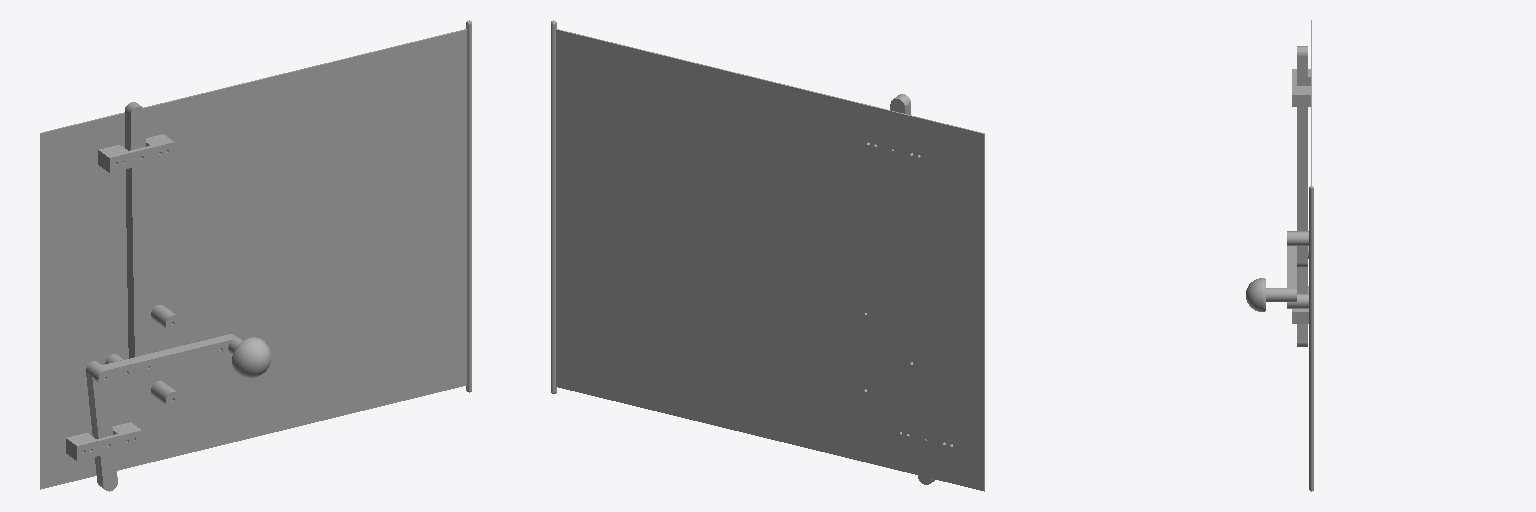
The robot description file, URDF, robot "doooor_c":
<?xml version="1.0" ?>
<!-- =================================================================================== -->
<!-- |    This document was autogenerated by xacro from urdf\doooor_c.xacro.temp       | -->
<!-- |    EDITING THIS FILE BY HAND IS NOT RECOMMENDED                                 | -->
<!-- =================================================================================== -->
<robot xmlns:xacro="http://www.ros.org/wiki/xacro" name="doooor_c">
  <material name="silver">
    <color rgba="0.700 0.700 0.700 1.000"/>
  </material>
  <transmission name="Revolute 5_tran">
    <type>transmission_interface/SimpleTransmission</type>
    <joint name="Revolute 5">
      <hardwareInterface>hardware_interface/EffortJointInterface</hardwareInterface>
    </joint>
    <actuator name="Revolute 5_actr">
      <hardwareInterface>hardware_interface/EffortJointInterface</hardwareInterface>
      <mechanicalReduction>1</mechanicalReduction>
    </actuator>
  </transmission>
  <transmission name="Revolute 6_tran">
    <type>transmission_interface/SimpleTransmission</type>
    <joint name="Revolute 6">
      <hardwareInterface>hardware_interface/EffortJointInterface</hardwareInterface>
    </joint>
    <actuator name="Revolute 6_actr">
      <hardwareInterface>hardware_interface/EffortJointInterface</hardwareInterface>
      <mechanicalReduction>1</mechanicalReduction>
    </actuator>
  </transmission>
  <transmission name="Revolute 7_tran">
    <type>transmission_interface/SimpleTransmission</type>
    <joint name="Revolute 7">
      <hardwareInterface>hardware_interface/EffortJointInterface</hardwareInterface>
    </joint>
    <actuator name="Revolute 7_actr">
      <hardwareInterface>hardware_interface/EffortJointInterface</hardwareInterface>
      <mechanicalReduction>1</mechanicalReduction>
    </actuator>
  </transmission>
  <!-- omitted .gazebo include -->
  <link name="base_link">
    <inertial>
      <origin xyz="7.038694317802445e-05 -1.6801656607224579e-18 0.24500000000000013" rpy="0 0 0"/>
      <mass value="0.16598840834892414"/>
      <inertia ixx="0.003304" iyy="0.003304" izz="1e-06" ixy="-0.0" iyz="-0.0" ixz="-0.0"/>
    </inertial>
    <visual>
      <origin xyz="0 0 0" rpy="0 0 0"/>
      <geometry>
        <mesh filename="package://doooor_c_description/meshes/base_link.stl" scale="0.001 0.001 0.001"/>
      </geometry>
      <material name="silver"/>
    </visual>
    <collision>
      <origin xyz="0 0 0" rpy="0 0 0"/>
      <geometry>
        <mesh filename="package://doooor_c_description/meshes/base_link.stl" scale="0.001 0.001 0.001"/>
      </geometry>
    </collision>
  </link>
  <link name="door_slab_v14_1">
    <inertial>
      <origin xyz="-0.2948919244895614 0.0010000000000000002 0.23501224276984944" rpy="0 0 0"/>
      <mass value="4.35104520375761"/>
      <inertia ixx="0.080071" iyy="0.20627" izz="0.126202" ixy="-0.0" iyz="0.0" ixz="1.6e-05"/>
    </inertial>
    <visual>
      <origin xyz="0.00325 0.001 -0.01" rpy="0 0 0"/>
      <geometry>
        <mesh filename="package://doooor_c_description/meshes/door_slab_v14_1.stl" scale="0.001 0.001 0.001"/>
      </geometry>
      <material name="silver"/>
    </visual>
    <collision>
      <origin xyz="0.00325 0.001 -0.01" rpy="0 0 0"/>
      <geometry>
        <mesh filename="package://doooor_c_description/meshes/door_slab_v14_1.stl" scale="0.001 0.001 0.001"/>
      </geometry>
    </collision>
  </link>
  <link name="door_LatchFixedBaseL_v2_1">
    <inertial>
      <origin xyz="0.49325 0.001 -0.155" rpy="0 0 0"/>
      <mass value="0.0"/>
      <inertia ixx="0.0" iyy="0.0" izz="0.0" ixy="0.0" iyz="0.0" ixz="0.0"/>
    </inertial>
    <visual>
      <origin xyz="0.49325 0.001 -0.155" rpy="0 0 0"/>
      <geometry>
        <mesh filename="package://doooor_c_description/meshes/door_LatchFixedBaseL_v2_1.stl" scale="0.001 0.001 0.001"/>
      </geometry>
      <material name="silver"/>
    </visual>
    <collision>
      <origin xyz="0.49325 0.001 -0.155" rpy="0 0 0"/>
      <geometry>
        <mesh filename="package://doooor_c_description/meshes/door_LatchFixedBaseL_v2_1.stl" scale="0.001 0.001 0.001"/>
      </geometry>
    </collision>
  </link>
  <link name="door_Lockdown_A6_2_v1_1">
    <inertial>
      <origin xyz="0.024451503454100965 -0.010499999999999926 -6.938893903907228e-18" rpy="0 0 0"/>
      <mass value="0.18953373521689193"/>
      <inertia ixx="1.4e-05" iyy="0.000192" izz="0.000192" ixy="-0.0" iyz="0.0" ixz="-0.0"/>
    </inertial>
    <visual>
      <origin xyz="0.53825 0.001 -0.06" rpy="0 0 0"/>
      <geometry>
        <mesh filename="package://doooor_c_description/meshes/door_Lockdown_A6_2_v1_1.stl" scale="0.001 0.001 0.001"/>
      </geometry>
      <material name="silver"/>
    </visual>
    <collision>
      <origin xyz="0.53825 0.001 -0.06" rpy="0 0 0"/>
      <geometry>
        <mesh filename="package://doooor_c_description/meshes/door_Lockdown_A6_2_v1_1.stl" scale="0.001 0.001 0.001"/>
      </geometry>
    </collision>
  </link>
  <link name="door_Lockup_A1_2_v1_1">
    <inertial>
      <origin xyz="0.034908909067310534 -0.010499999999999995 0.0" rpy="0 0 0"/>
      <mass value="0.1895337352168919"/>
      <inertia ixx="1.4e-05" iyy="0.000192" izz="0.000192" ixy="0.0" iyz="-0.0" ixz="-0.0"/>
    </inertial>
    <visual>
      <origin xyz="0.50325 0.001 -0.43" rpy="0 0 0"/>
      <geometry>
        <mesh filename="package://doooor_c_description/meshes/door_Lockup_A1_2_v1_1.stl" scale="0.001 0.001 0.001"/>
      </geometry>
      <material name="silver"/>
    </visual>
    <collision>
      <origin xyz="0.50325 0.001 -0.43" rpy="0 0 0"/>
      <geometry>
        <mesh filename="package://doooor_c_description/meshes/door_Lockup_A1_2_v1_1.stl" scale="0.001 0.001 0.001"/>
      </geometry>
    </collision>
  </link>
  <link name="latch_V4_Row_forupdown_v7_1">
    <inertial>
      <origin xyz="0.06006525734775814 -0.007499999999999951 0.0" rpy="0 0 0"/>
      <mass value="1.1149592858571384"/>
      <inertia ixx="5.8e-05" iyy="0.003566" izz="0.00355" ixy="-0.0" iyz="0.0" ixz="0.0"/>
    </inertial>
    <visual>
      <origin xyz="0.49325 0.021 -0.155" rpy="0 0 0"/>
      <geometry>
        <mesh filename="package://doooor_c_description/meshes/latch_V4_Row_forupdown_v7_1.stl" scale="0.001 0.001 0.001"/>
      </geometry>
      <material name="silver"/>
    </visual>
    <collision>
      <origin xyz="0.49325 0.021 -0.155" rpy="0 0 0"/>
      <geometry>
        <mesh filename="package://doooor_c_description/meshes/latch_V4_Row_forupdown_v7_1.stl" scale="0.001 0.001 0.001"/>
      </geometry>
    </collision>
  </link>
  <link name="latch_V4_down_v7_1">
    <inertial>
      <origin xyz="0.00786947360129453 0.007500000000000022 -0.07487303990560797" rpy="0 0 0"/>
      <mass value="0.9558111430285682"/>
      <inertia ixx="0.002174" iyy="0.002211" izz="7.3e-05" ixy="0.0" iyz="-0.0" ixz="0.000223"/>
    </inertial>
    <visual>
      <origin xyz="0.52325 0.021 -0.155" rpy="0 0 0"/>
      <geometry>
        <mesh filename="package://doooor_c_description/meshes/latch_V4_down_v7_1.stl" scale="0.001 0.001 0.001"/>
      </geometry>
      <material name="silver"/>
    </visual>
    <collision>
      <origin xyz="0.52325 0.021 -0.155" rpy="0 0 0"/>
      <geometry>
        <mesh filename="package://doooor_c_description/meshes/latch_V4_down_v7_1.stl" scale="0.001 0.001 0.001"/>
      </geometry>
    </collision>
  </link>
  <link name="latch_V4_up_v7_1">
    <inertial>
      <origin xyz="-0.003739983671663616 0.007500000000000022 0.16526032904458063" rpy="0 0 0"/>
      <mass value="1.9980111430285712"/>
      <inertia ixx="0.019878" iyy="0.019912" izz="0.000109" ixy="0.0" iyz="-0.0" ixz="0.000345"/>
    </inertial>
    <visual>
      <origin xyz="0.46325 0.021 -0.155" rpy="0 0 0"/>
      <geometry>
        <mesh filename="package://doooor_c_description/meshes/latch_V4_up_v7_1.stl" scale="0.001 0.001 0.001"/>
      </geometry>
      <material name="silver"/>
    </visual>
    <collision>
      <origin xyz="0.46325 0.021 -0.155" rpy="0 0 0"/>
      <geometry>
        <mesh filename="package://doooor_c_description/meshes/latch_V4_up_v7_1.stl" scale="0.001 0.001 0.001"/>
      </geometry>
    </collision>
  </link>
  <link name="latch_V4_handle_v2_1">
    <inertial>
      <origin xyz="-1.4988010832439613e-15 -0.03664411465819092 0.0" rpy="0 0 0"/>
      <mass value="0.9987969219718204"/>
      <inertia ixx="0.000279" iyy="0.000219" izz="0.000279" ixy="0.0" iyz="-0.0" ixz="0.0"/>
    </inertial>
    <visual>
      <origin xyz="0.34325 0.036 -0.155" rpy="0 0 0"/>
      <geometry>
        <mesh filename="package://doooor_c_description/meshes/latch_V4_handle_v2_1.stl" scale="0.001 0.001 0.001"/>
      </geometry>
      <material name="silver"/>
    </visual>
    <collision>
      <origin xyz="0.34325 0.036 -0.155" rpy="0 0 0"/>
      <geometry>
        <mesh filename="package://doooor_c_description/meshes/latch_V4_handle_v2_1.stl" scale="0.001 0.001 0.001"/>
      </geometry>
    </collision>
  </link>
  <link name="door_Lockcover_v1_1">
    <inertial>
      <origin xyz="0.04499999999999227 -0.002999999999999982 -0.010000000000000231" rpy="0 0 0"/>
      <mass value="0.08182061972031829"/>
      <inertia ixx="3e-06" iyy="5.8e-05" izz="5.5e-05" ixy="0.0" iyz="0.0" ixz="0.0"/>
    </inertial>
    <visual>
      <origin xyz="0.51325 0.022 -0.44" rpy="0 0 0"/>
      <geometry>
        <mesh filename="package://doooor_c_description/meshes/door_Lockcover_v1_1.stl" scale="0.001 0.001 0.001"/>
      </geometry>
      <material name="silver"/>
    </visual>
    <collision>
      <origin xyz="0.51325 0.022 -0.44" rpy="0 0 0"/>
      <geometry>
        <mesh filename="package://doooor_c_description/meshes/door_Lockcover_v1_1.stl" scale="0.001 0.001 0.001"/>
      </geometry>
    </collision>
  </link>
  <link name="door_Lockcover_v1__1__1">
    <inertial>
      <origin xyz="0.044999999999991935 -0.0029999999999999437 -0.010000000000000196" rpy="0 0 0"/>
      <mass value="0.08182061972031829"/>
      <inertia ixx="3e-06" iyy="5.8e-05" izz="5.5e-05" ixy="0.0" iyz="0.0" ixz="0.0"/>
    </inertial>
    <visual>
      <origin xyz="0.55825 0.022 -0.07" rpy="0 0 0"/>
      <geometry>
        <mesh filename="package://doooor_c_description/meshes/door_Lockcover_v1__1__1.stl" scale="0.001 0.001 0.001"/>
      </geometry>
      <material name="silver"/>
    </visual>
    <collision>
      <origin xyz="0.55825 0.022 -0.07" rpy="0 0 0"/>
      <geometry>
        <mesh filename="package://doooor_c_description/meshes/door_Lockcover_v1__1__1.stl" scale="0.001 0.001 0.001"/>
      </geometry>
    </collision>
  </link>
  <link name="door_LatchRange_v3__1__1">
    <inertial>
      <origin xyz="0.42999 0.001 -0.20538" rpy="0 0 0"/>
      <mass value="0.0"/>
      <inertia ixx="0.0" iyy="0.0" izz="0.0" ixy="0.0" iyz="0.0" ixz="0.0"/>
    </inertial>
    <visual>
      <origin xyz="0.42999 0.001 -0.20538" rpy="0 0 0"/>
      <geometry>
        <mesh filename="package://doooor_c_description/meshes/door_LatchRange_v3__1__1.stl" scale="0.001 0.001 0.001"/>
      </geometry>
      <material name="silver"/>
    </visual>
    <collision>
      <origin xyz="0.42999 0.001 -0.20538" rpy="0 0 0"/>
      <geometry>
        <mesh filename="package://doooor_c_description/meshes/door_LatchRange_v3__1__1.stl" scale="0.001 0.001 0.001"/>
      </geometry>
    </collision>
  </link>
  <link name="door_LatchRange_v3_1">
    <inertial>
      <origin xyz="0.42999 0.001 -0.10462" rpy="0 0 0"/>
      <mass value="0.0"/>
      <inertia ixx="0.0" iyy="0.0" izz="0.0" ixy="0.0" iyz="0.0" ixz="0.0"/>
    </inertial>
    <visual>
      <origin xyz="0.42999 0.001 -0.10462" rpy="0 0 0"/>
      <geometry>
        <mesh filename="package://doooor_c_description/meshes/door_LatchRange_v3_1.stl" scale="0.001 0.001 0.001"/>
      </geometry>
      <material name="silver"/>
    </visual>
    <collision>
      <origin xyz="0.42999 0.001 -0.10462" rpy="0 0 0"/>
      <geometry>
        <mesh filename="package://doooor_c_description/meshes/door_LatchRange_v3_1.stl" scale="0.001 0.001 0.001"/>
      </geometry>
    </collision>
  </link>
  <joint name="Rigid 1" type="fixed">
    <origin xyz="-0.00325 -0.001 0.01" rpy="0 0 0"/>
    <parent link="base_link"/>
    <child link="door_slab_v14_1"/>
  </joint>
  <joint name="Rigid 2" type="fixed">
    <origin xyz="-0.49 0.0 0.145" rpy="0 0 0"/>
    <parent link="door_slab_v14_1"/>
    <child link="door_LatchFixedBaseL_v2_1"/>
  </joint>
  <joint name="Rigid 3" type="fixed">
    <origin xyz="-0.535 0.0 0.05" rpy="0 0 0"/>
    <parent link="door_slab_v14_1"/>
    <child link="door_Lockdown_A6_2_v1_1"/>
  </joint>
  <joint name="Rigid 4" type="fixed">
    <origin xyz="-0.5 0.0 0.42" rpy="0 0 0"/>
    <parent link="door_slab_v14_1"/>
    <child link="door_Lockup_A1_2_v1_1"/>
  </joint>
  <joint name="Revolute 5" type="continuous">
    <origin xyz="0.0 -0.02 0.0" rpy="0 0 0"/>
    <parent link="door_LatchFixedBaseL_v2_1"/>
    <child link="latch_V4_Row_forupdown_v7_1"/>
    <axis xyz="0.0 1.0 0.0"/>
  </joint>
  <joint name="Revolute 6" type="continuous">
    <origin xyz="-0.03 0.0 0.0" rpy="0 0 0"/>
    <parent link="latch_V4_Row_forupdown_v7_1"/>
    <child link="latch_V4_down_v7_1"/>
    <axis xyz="0.0 1.0 0.0"/>
  </joint>
  <joint name="Revolute 7" type="continuous">
    <origin xyz="0.03 0.0 0.0" rpy="0 0 0"/>
    <parent link="latch_V4_Row_forupdown_v7_1"/>
    <child link="latch_V4_up_v7_1"/>
    <axis xyz="0.0 1.0 0.0"/>
  </joint>
  <joint name="Rigid 8" type="fixed">
    <origin xyz="0.15 -0.015 0.0" rpy="0 0 0"/>
    <parent link="latch_V4_Row_forupdown_v7_1"/>
    <child link="latch_V4_handle_v2_1"/>
  </joint>
  <joint name="Rigid 11" type="fixed">
    <origin xyz="-0.01 -0.021 0.01" rpy="0 0 0"/>
    <parent link="door_Lockup_A1_2_v1_1"/>
    <child link="door_Lockcover_v1_1"/>
  </joint>
  <joint name="Rigid 12" type="fixed">
    <origin xyz="-0.02 -0.021 0.01" rpy="0 0 0"/>
    <parent link="door_Lockdown_A6_2_v1_1"/>
    <child link="door_Lockcover_v1__1__1"/>
  </joint>
  <joint name="Rigid 13" type="fixed">
    <origin xyz="-0.42674 0.0 0.19538" rpy="0 0 0"/>
    <parent link="door_slab_v14_1"/>
    <child link="door_LatchRange_v3__1__1"/>
  </joint>
  <joint name="Rigid 14" type="fixed">
    <origin xyz="-0.42674 0.0 0.09462" rpy="0 0 0"/>
    <parent link="door_slab_v14_1"/>
    <child link="door_LatchRange_v3_1"/>
  </joint>
</robot>

--- Facts derived from the render (not from the file) ---
Views: 3 orthographic renders of the robot side by side, from view 1: azimuth 30°, elevation 25°; view 2: azimuth 150°, elevation 25°; view 3: azimuth 270°, elevation 25°.
Robot: doooor_c — 13 links, 12 joints (3 continuous, 9 fixed); root link base_link; default pose: every joint at zero.
Links seen in each view (by area): view 1: door_slab_v14_1, latch_V4_up_v7_1, latch_V4_Row_forupdown_v7_1, latch_V4_down_v7_1, base_link, latch_V4_handle_v2_1, door_Lockcover_v1__1__1, door_Lockcover_v1_1; view 2: door_slab_v14_1, base_link; view 3: latch_V4_up_v7_1, base_link, latch_V4_handle_v2_1, latch_V4_Row_forupdown_v7_1, latch_V4_down_v7_1.
Boxes of the visible links, x1,y1,x2,y2 form: door_slab_v14_1: [40, 29, 466, 489]; latch_V4_up_v7_1: [125, 102, 148, 358]; latch_V4_Row_forupdown_v7_1: [92, 334, 237, 385]; latch_V4_down_v7_1: [86, 361, 117, 491]; base_link: [466, 20, 471, 392]; latch_V4_handle_v2_1: [228, 337, 270, 377]; door_Lockcover_v1__1__1: [74, 429, 141, 460]; door_Lockcover_v1_1: [107, 140, 174, 172]; door_slab_v14_1: [556, 29, 984, 491]; base_link: [551, 20, 556, 393]; latch_V4_up_v7_1: [1297, 46, 1307, 266]; base_link: [1309, 186, 1313, 491]; latch_V4_handle_v2_1: [1246, 278, 1286, 311]; latch_V4_Row_forupdown_v7_1: [1287, 246, 1296, 301]; latch_V4_down_v7_1: [1297, 267, 1307, 346].
Size in the robot's own frame: 0.597 by 0.0997 by 0.4991 metres.
13 mesh visuals loaded from 13 distinct referenced files (13 binary STL).
